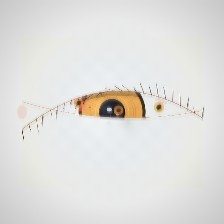foreign_body_visible: (66, 93, 91, 113)
